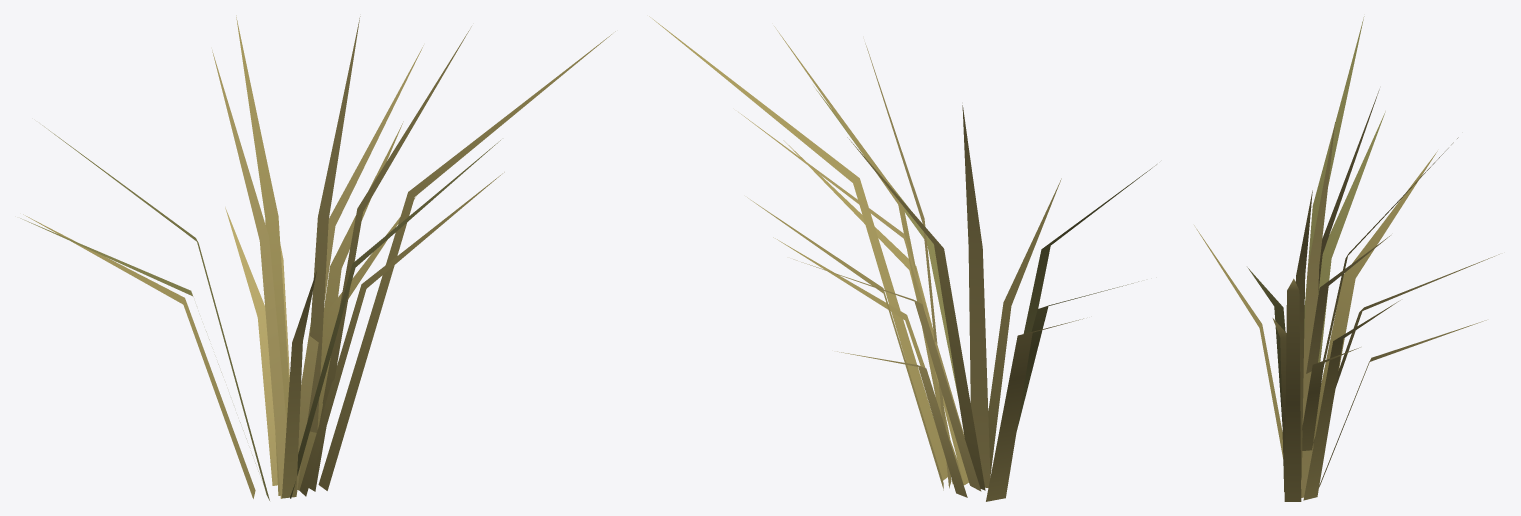
Rendered from grass_dry_1.fbx.
3 renders of one model, left to right at view 1: azimuth 30°, elevation 25°; view 2: azimuth 150°, elevation 25°; view 3: azimuth 270°, elevation 25°, orthographic. The views are drawn at different scales.
Parts seen in each view (by area): view 1: grass_dry_1; view 2: grass_dry_1; view 3: grass_dry_1.
Part boxes in pixels (x1,y1,x2,y2): grass_dry_1: (20, 15, 615, 500); grass_dry_1: (649, 16, 1156, 501); grass_dry_1: (1194, 16, 1499, 501).
Bounding box in the file's own units: 0.6367 × 0.4862 × 0.3386.
